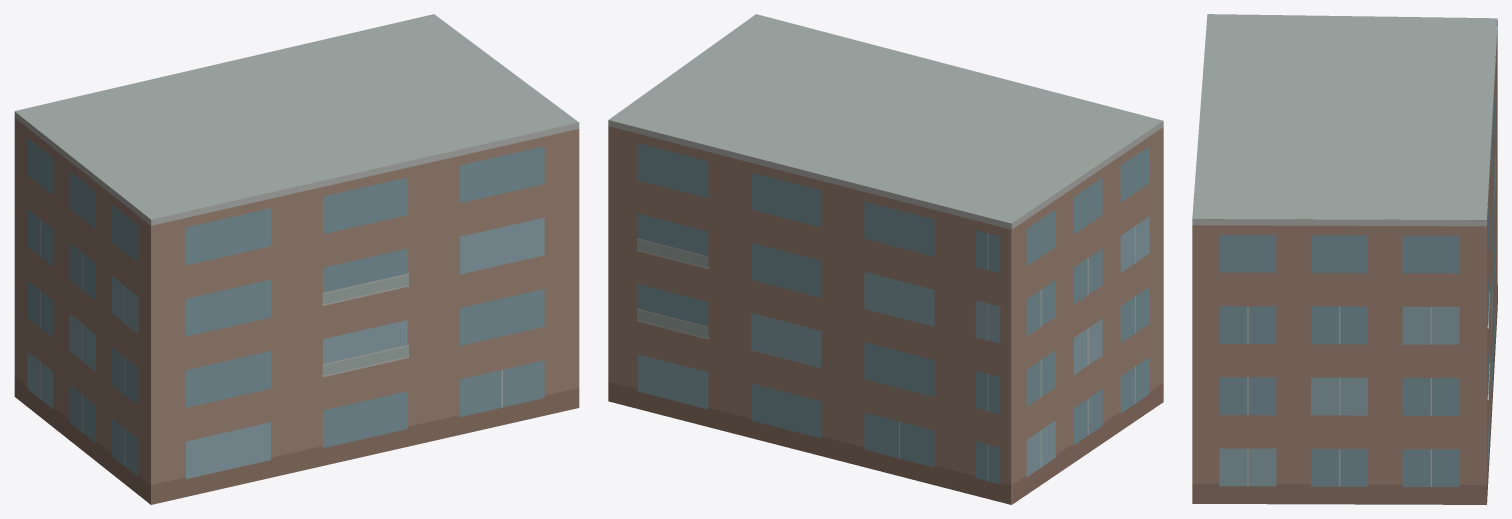
File: survey-upis-32935648.glb
3 renders of one model, left to right at view 1: azimuth 30°, elevation 25°; view 2: azimuth 150°, elevation 25°; view 3: azimuth 270°, elevation 25°, orthographic.
Parts seen in each view (by area): view 1: survey-upis-32935648.tmp; view 2: survey-upis-32935648.tmp; view 3: survey-upis-32935648.tmp.
Boxes of the visible parts, left/top/right/bottom form: survey-upis-32935648.tmp: left=14, top=14, right=579, bottom=504; survey-upis-32935648.tmp: left=608, top=14, right=1163, bottom=504; survey-upis-32935648.tmp: left=1192, top=14, right=1497, bottom=504.
Size of the model in its own units: 17.39 by 11.2 by 10.9.
